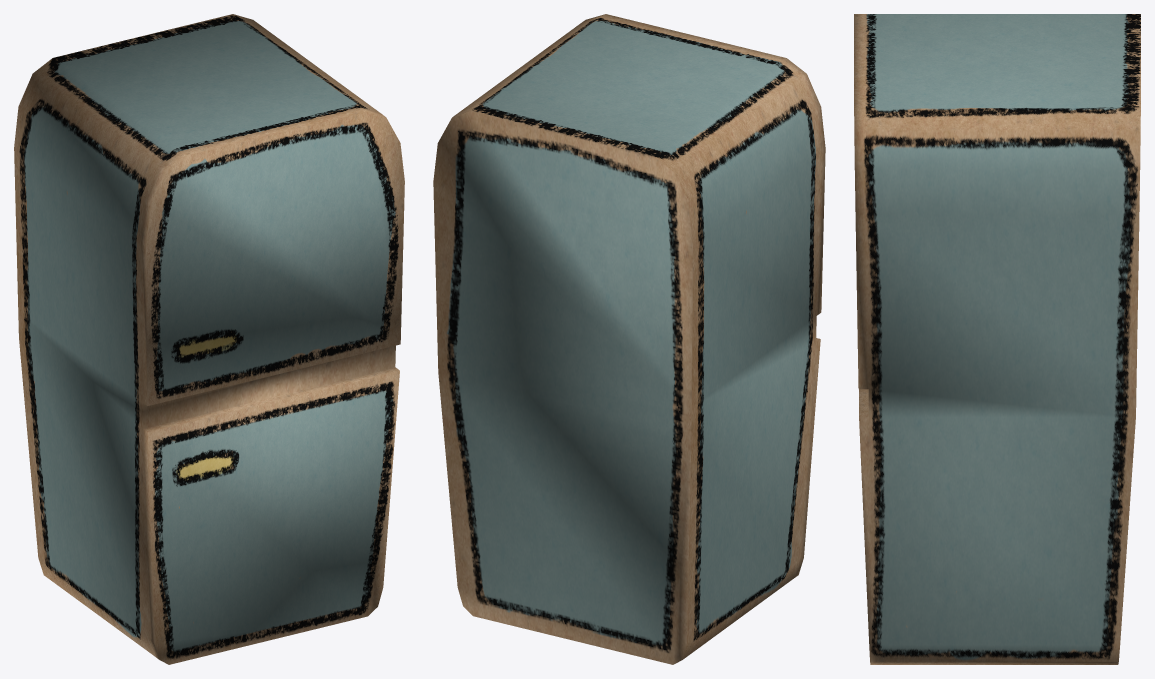
Rendered from 20s_Refigerator.fbx.
The picture shows the model from 3 angles, left to right: view 1: azimuth 30°, elevation 25°; view 2: azimuth 150°, elevation 25°; view 3: azimuth 270°, elevation 25°; orthographic projection. The views are drawn at different scales.
Visible parts, largest first — view 1: 20s_Refigerator; view 2: 20s_Refigerator; view 3: 20s_Refigerator.
Boxes of the visible parts, x1,y1,x2,y2 form: 20s_Refigerator: [14, 14, 404, 664]; 20s_Refigerator: [433, 14, 825, 664]; 20s_Refigerator: [854, 14, 1140, 664].
Size of the model in its own units: 198 by 375 by 177.
1 material, 1 textured.
